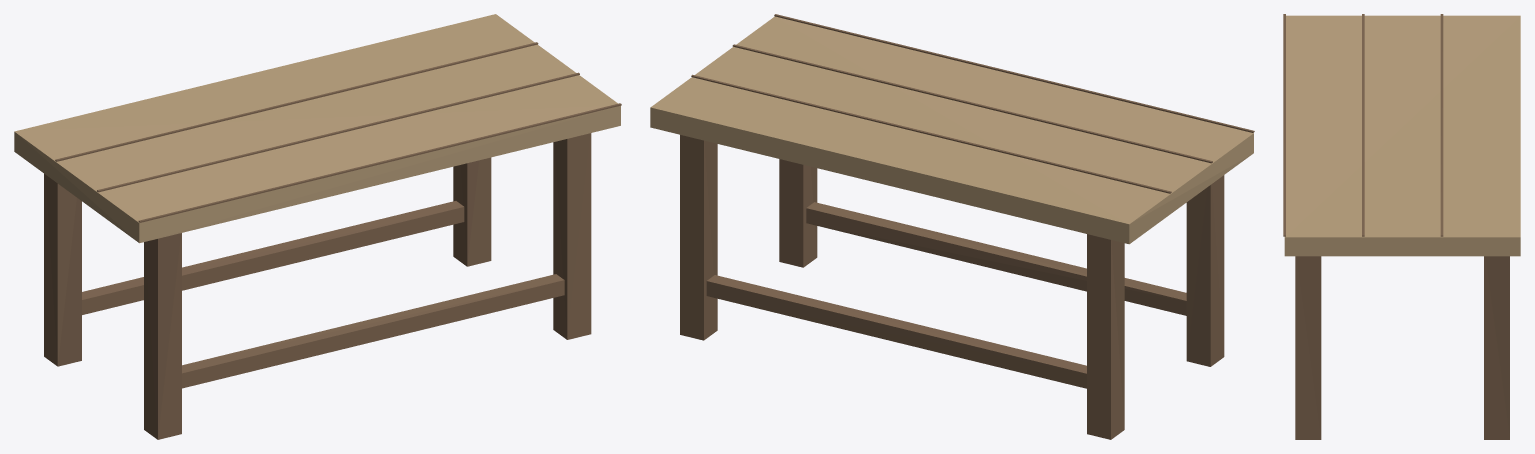
Rendered from table_long.glb.
3 views of the same model, side by side, from view 1: azimuth 30°, elevation 25°; view 2: azimuth 150°, elevation 25°; view 3: azimuth 270°, elevation 25° (orthographic). The views are drawn at different scales.
Visible parts, largest first — view 1: table_long; view 2: table_long; view 3: table_long.
Boxes of the visible parts, left/top/right/bottom form: table_long: left=14, top=14, right=621, bottom=439; table_long: left=650, top=14, right=1254, bottom=439; table_long: left=1283, top=14, right=1520, bottom=439.
Size of the model in its own units: 2 by 0.9075 by 0.905.
